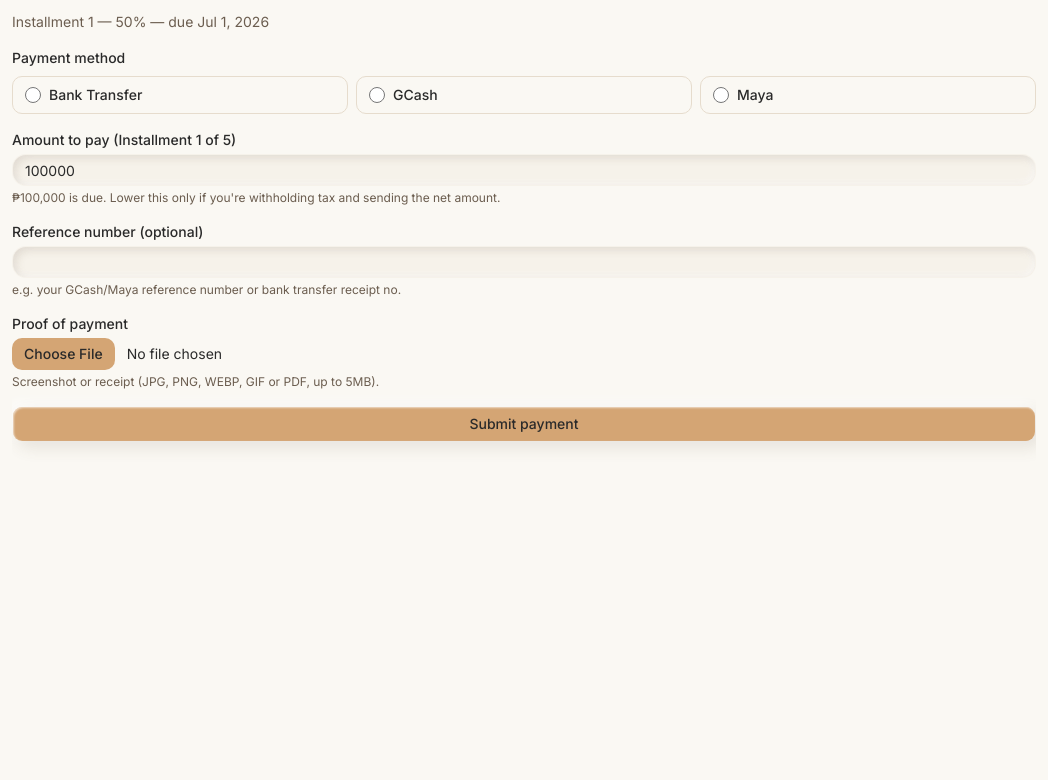
Test case: PaymentForm — where to send the money › swaps to the GCash details when the method changes
Click the radio button labelled "Bank Transfer": (33, 95) [25,87,41,103]
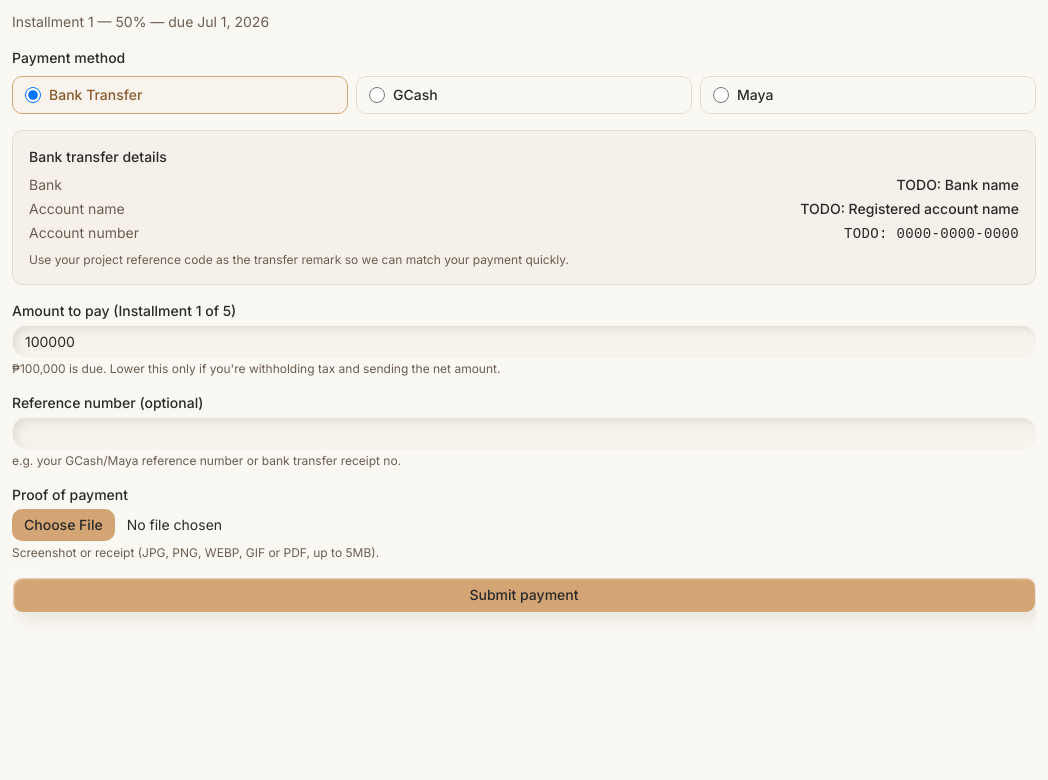
Click the radio button labelled "GCash": (377, 95) [369,87,385,103]
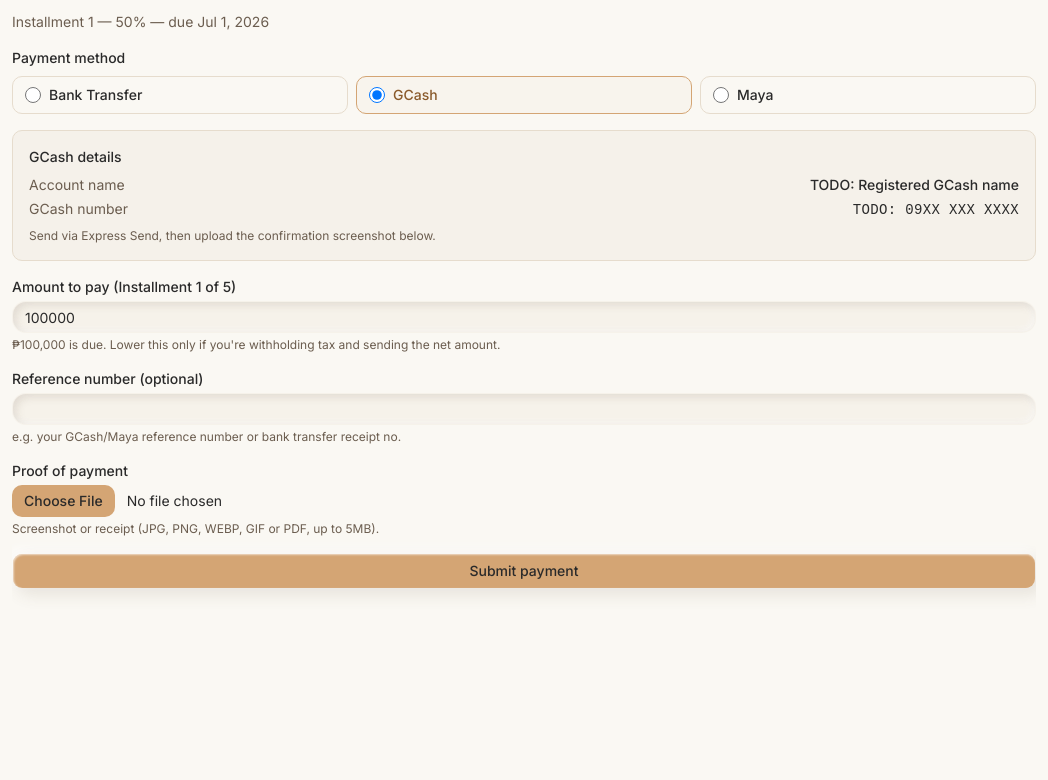
Now the heading "GCash details" is shown, box [29,148,122,165]
Now the heading "Bank transfer details" is gone
